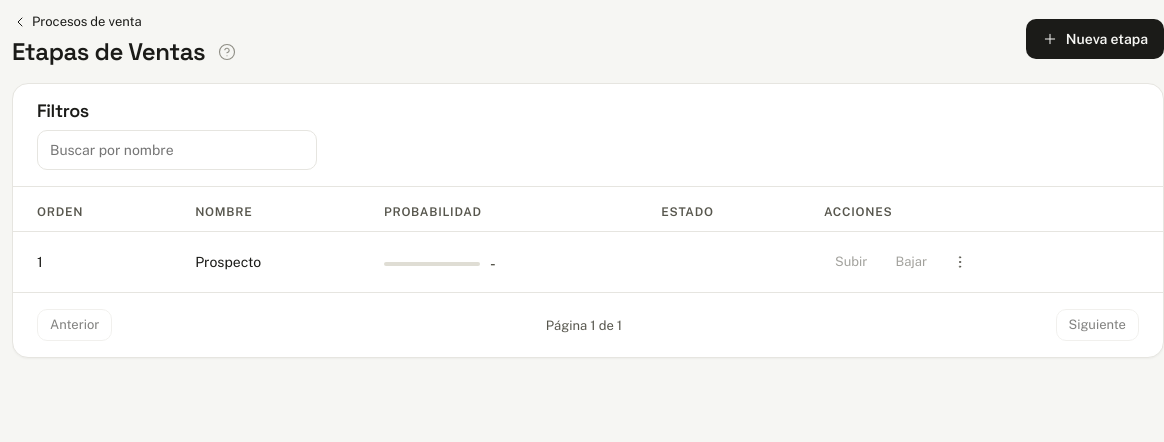
Test: StageListPage › S16 ADMIN sí ve Nueva etapa / Editar / Eliminar / Subir / Bajar
The width and height of the screenshot is (1164, 442).
Expected: the text "Prospecto" is shown, [179,232,368,292]
Expected: the link "Nueva etapa" is shown, [1026,19,1163,59]
Step 1. Click the button named "Más acciones" → [960, 262], box [944,246,976,278]
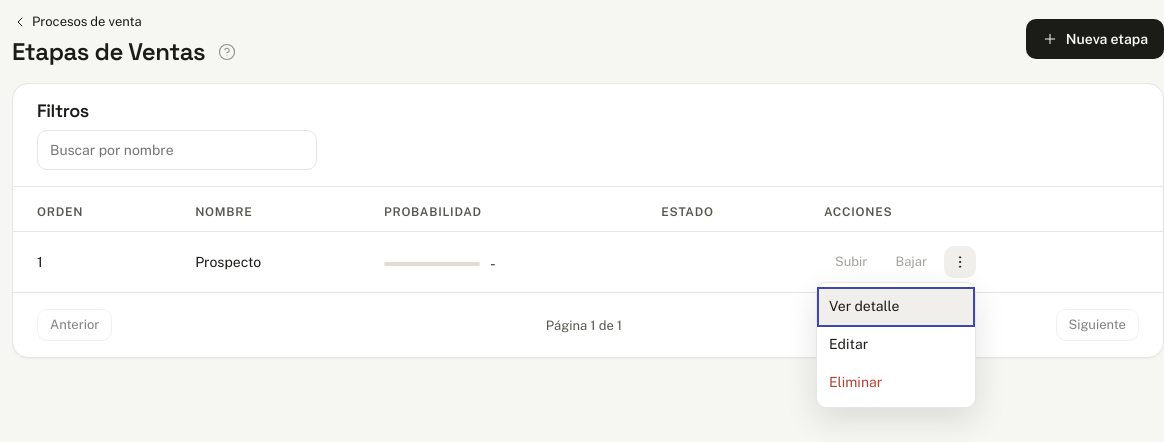
Now the menu item "Editar" is shown, box [829,336,868,352]
Now the menu item "Eliminar" is shown, box [817,363,975,403]
